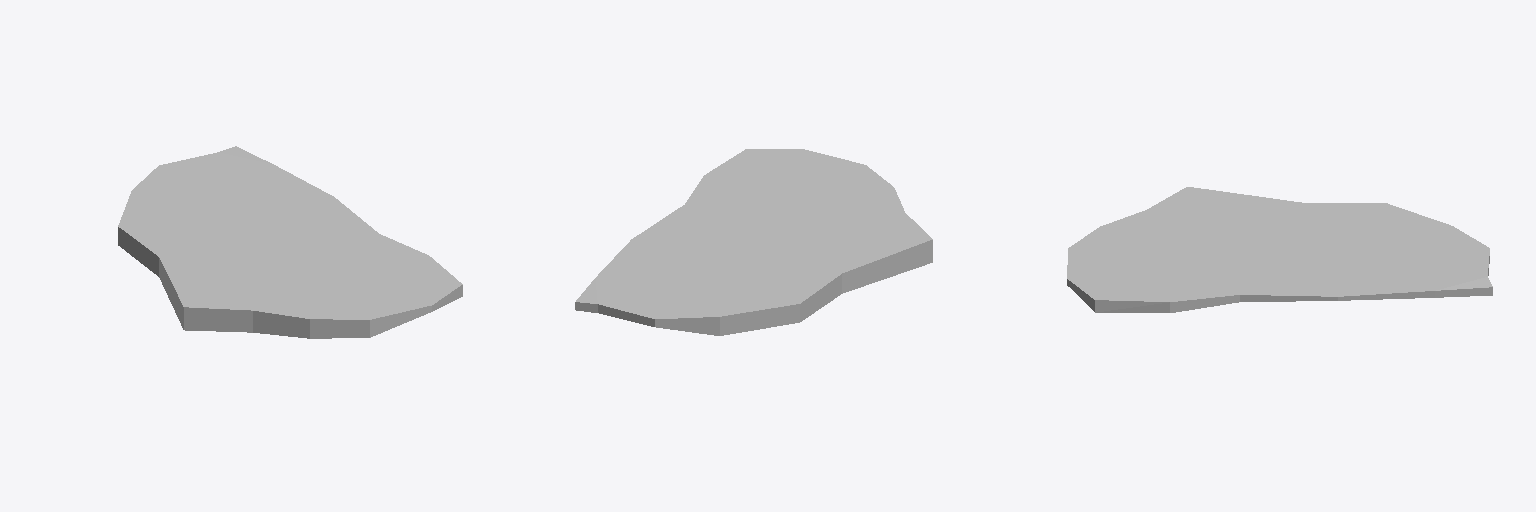
The model's file is world-beach-organic-water-obj.obj.
3 views of the same model, side by side, from view 1: azimuth 30°, elevation 25°; view 2: azimuth 150°, elevation 25°; view 3: azimuth 270°, elevation 25° (orthographic).
Parts seen in each view (by area): view 1: Island_Grass.001; view 2: Island_Grass.001; view 3: Island_Grass.001.
Part boxes in pixels (x1,y1,x2,y2): Island_Grass.001: (118, 146, 462, 338); Island_Grass.001: (575, 149, 932, 335); Island_Grass.001: (1067, 187, 1492, 312).
Size of the model in its own units: 13.78 by 1.29 by 21.43.